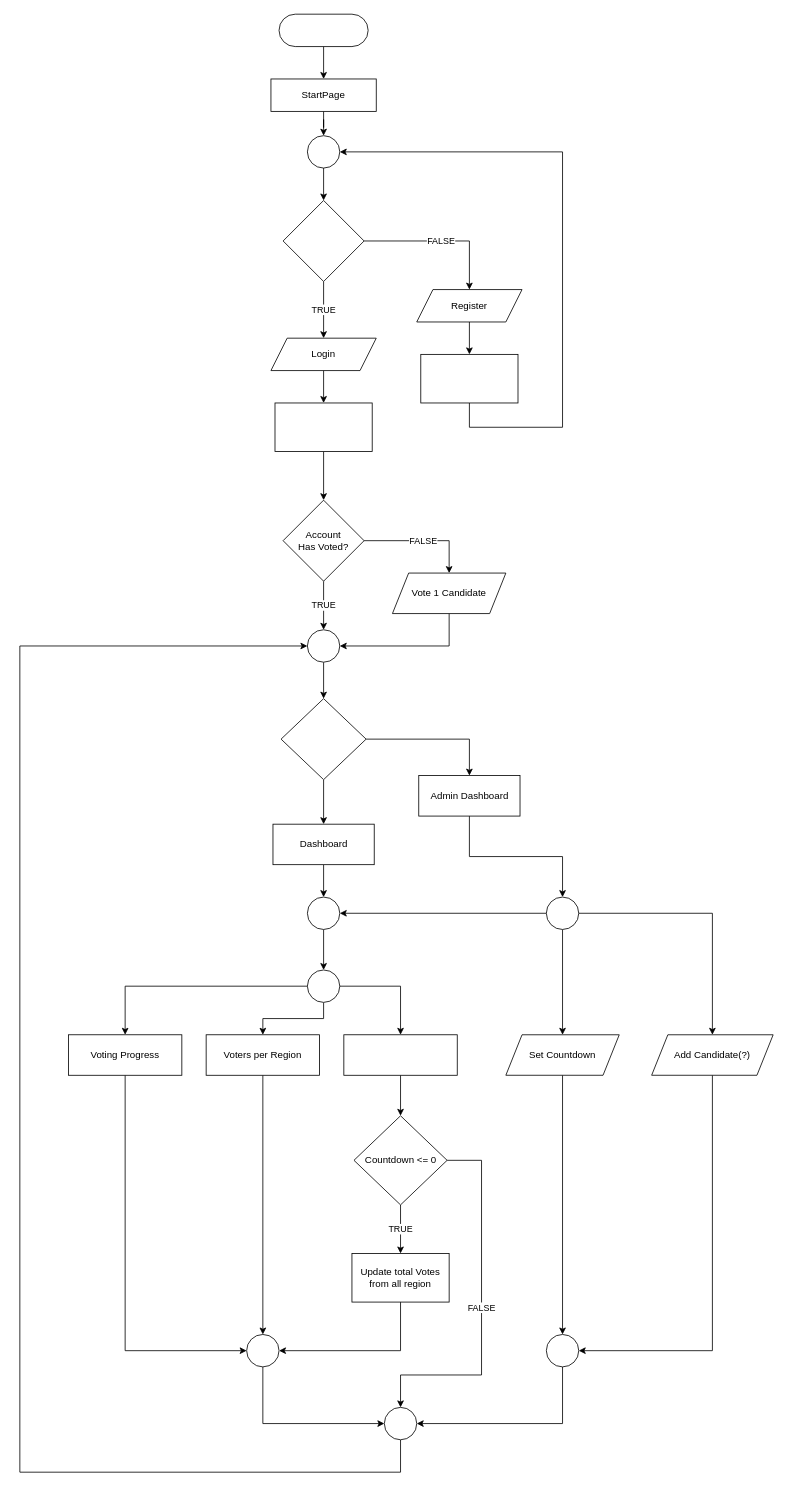
Image size: 787x1493. Some labels were removed from this diagram. Each missing label, with the box of its shape:
Account is Admin?: (280, 698, 366, 780)
Check Login Credentials: (274, 402, 372, 452)
Countdown: (343, 1034, 457, 1075)
Have Account?: (282, 200, 364, 281)
START: (278, 13, 368, 47)
Store Account Credentials: (420, 354, 518, 403)
